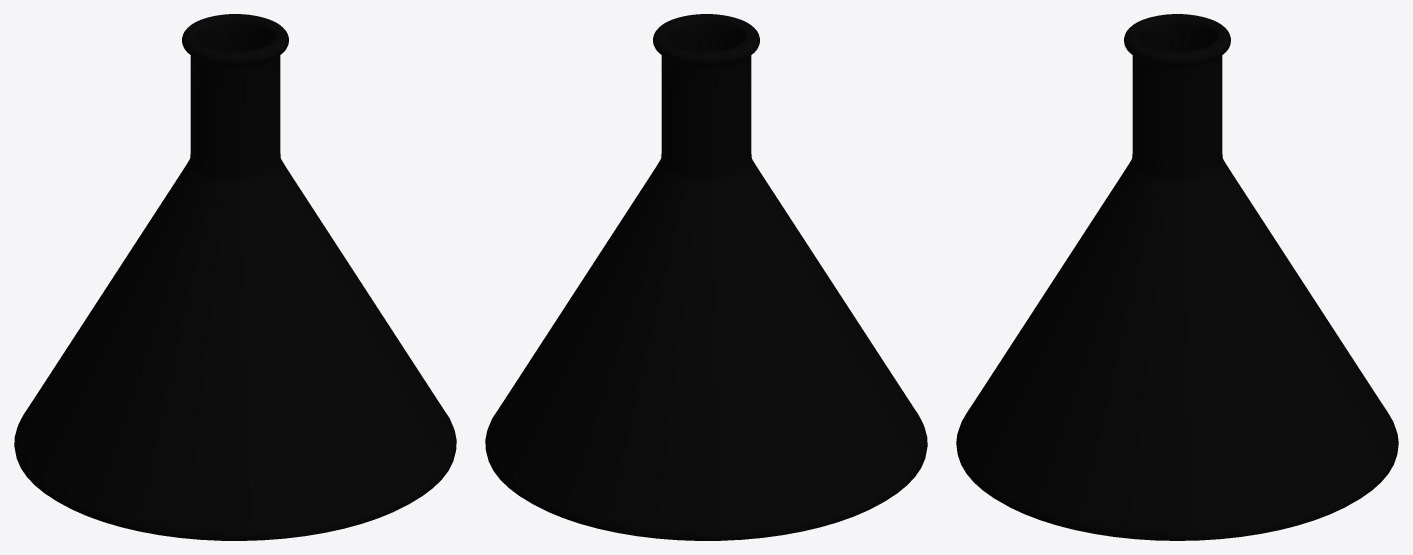
Rendered from 260329_frasco.glb.
The picture shows the model from 3 angles, left to right: view 1: azimuth 30°, elevation 25°; view 2: azimuth 150°, elevation 25°; view 3: azimuth 270°, elevation 25°; orthographic projection.
Visible parts, largest first — view 1: 円.002; view 2: 円.002; view 3: 円.002.
Part boxes in pixels (left/top/right/bottom): 円.002: left=14, top=14, right=456, bottom=540; 円.002: left=485, top=14, right=927, bottom=540; 円.002: left=956, top=14, right=1398, bottom=540.
Bounding box in the file's own units: 4.4 × 4.59 × 4.4.
4 materials, 1 textured.
